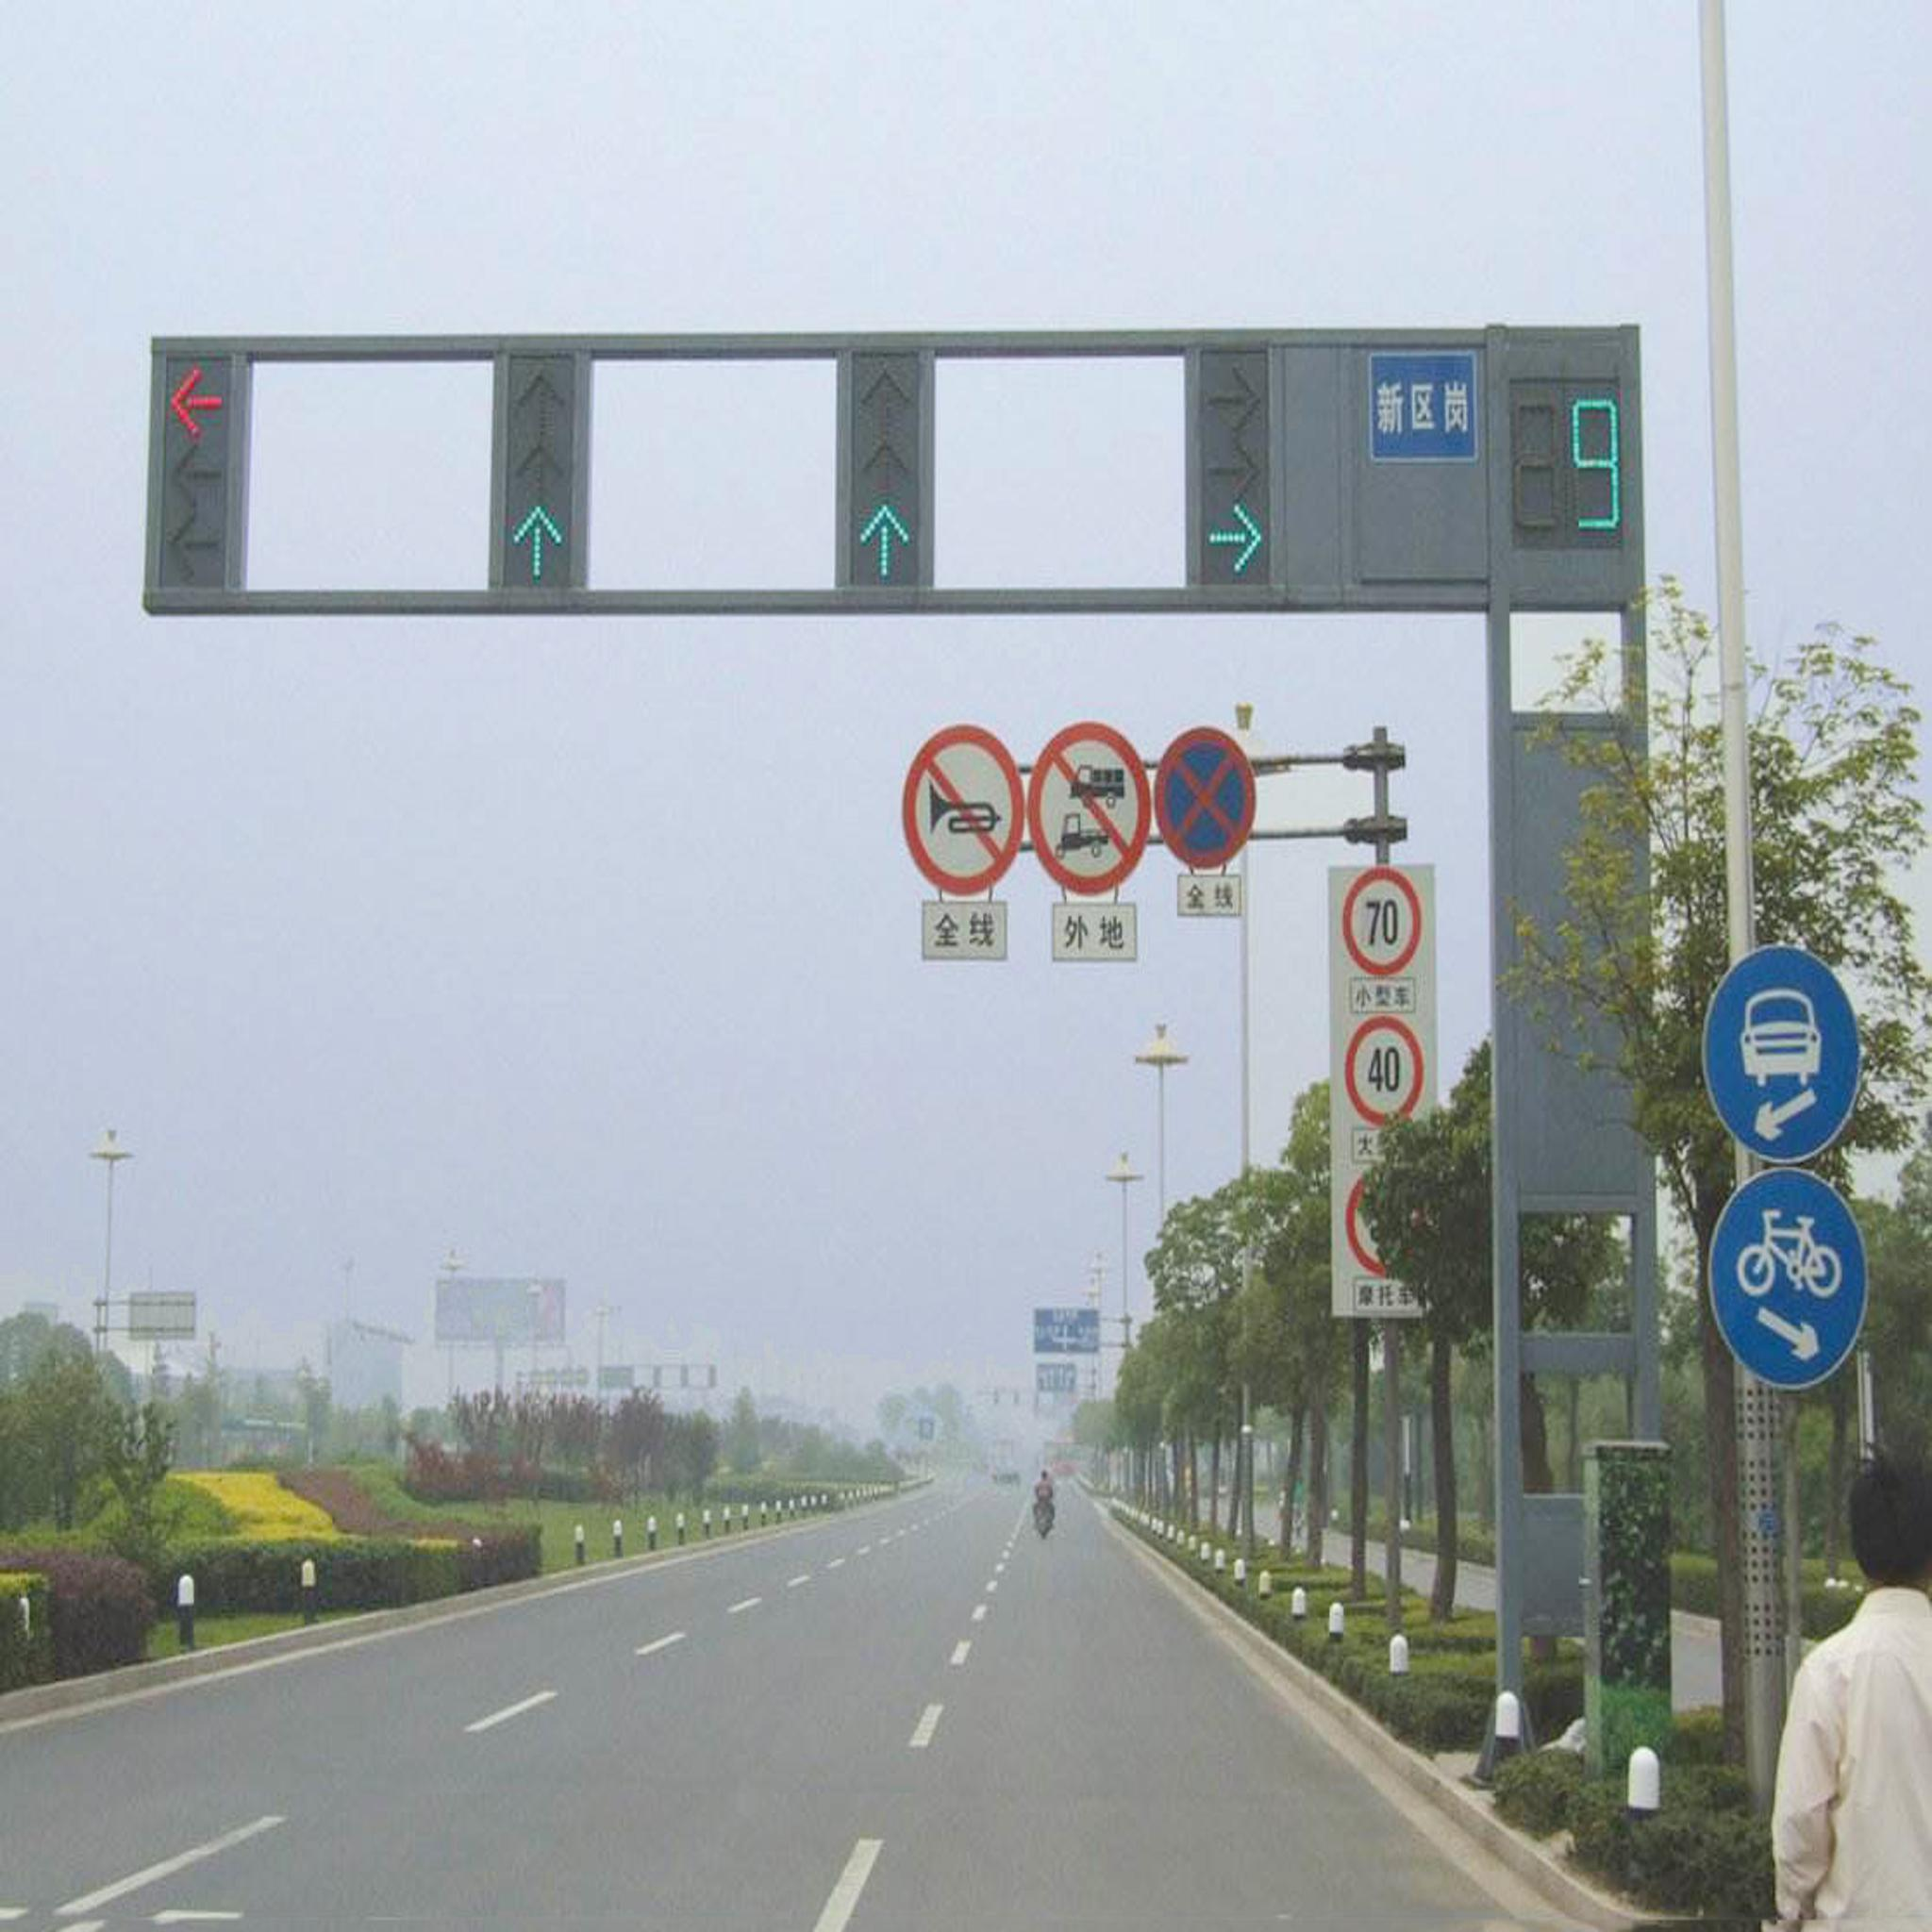p11: (908, 722, 1019, 901)
p13: (1028, 722, 1152, 897)
pl40: (1345, 1014, 1424, 1127)
pl70: (1341, 867, 1422, 975)
pn: (1155, 729, 1256, 869)
